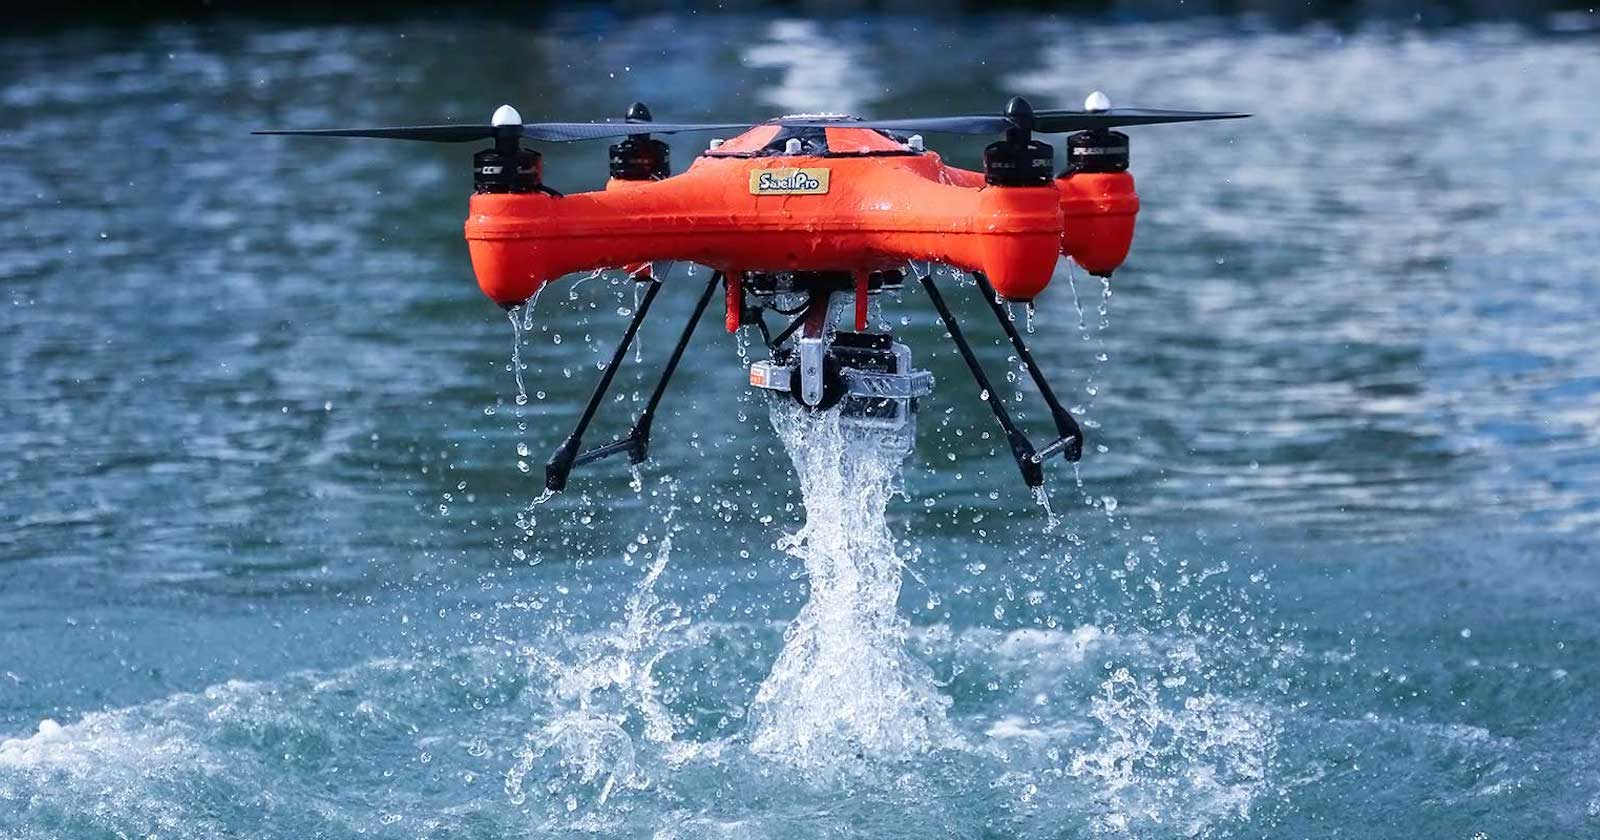drone: (246, 84, 1259, 495)
